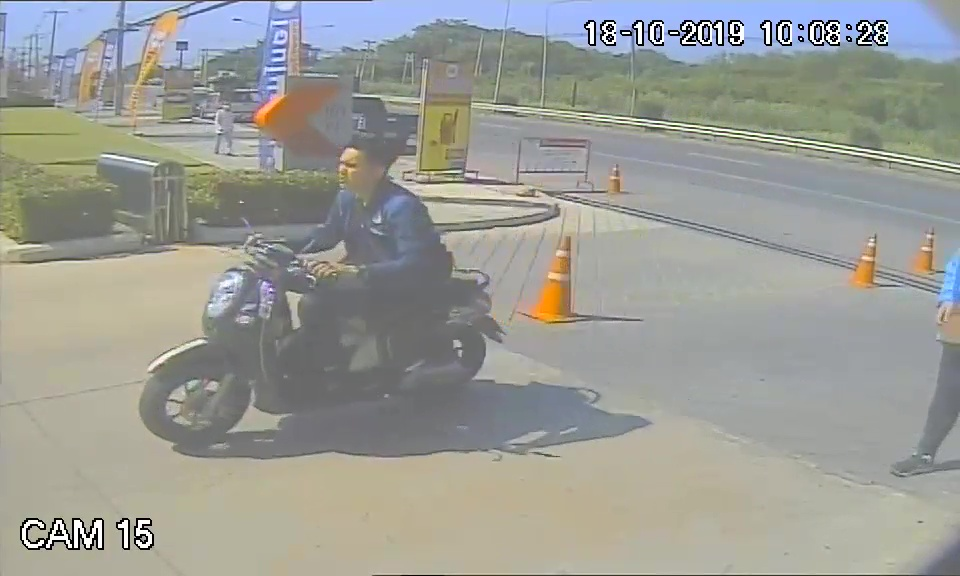motorcycle: (136, 236, 511, 446)
